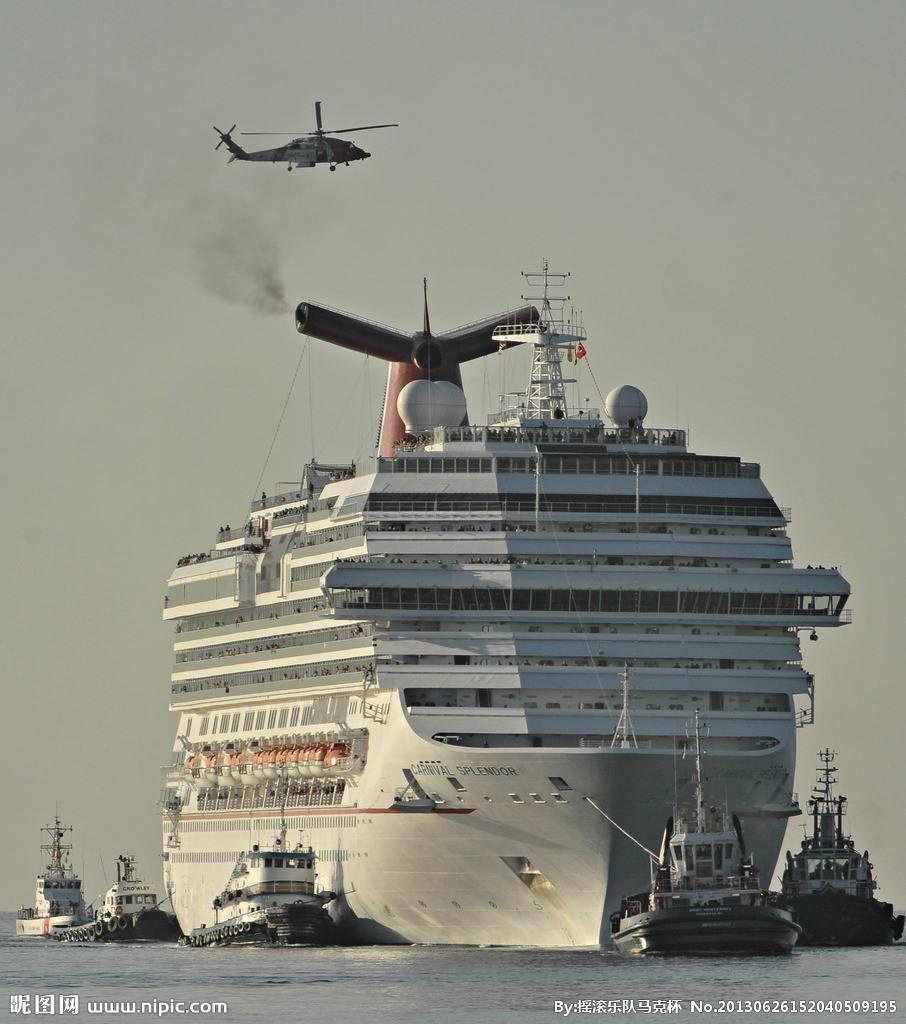airplane: (201, 96, 418, 179)
otherboat: (593, 715, 817, 961), (777, 739, 905, 957), (177, 805, 331, 951), (50, 851, 173, 956), (16, 811, 91, 940)
youlun: (144, 256, 847, 941)
